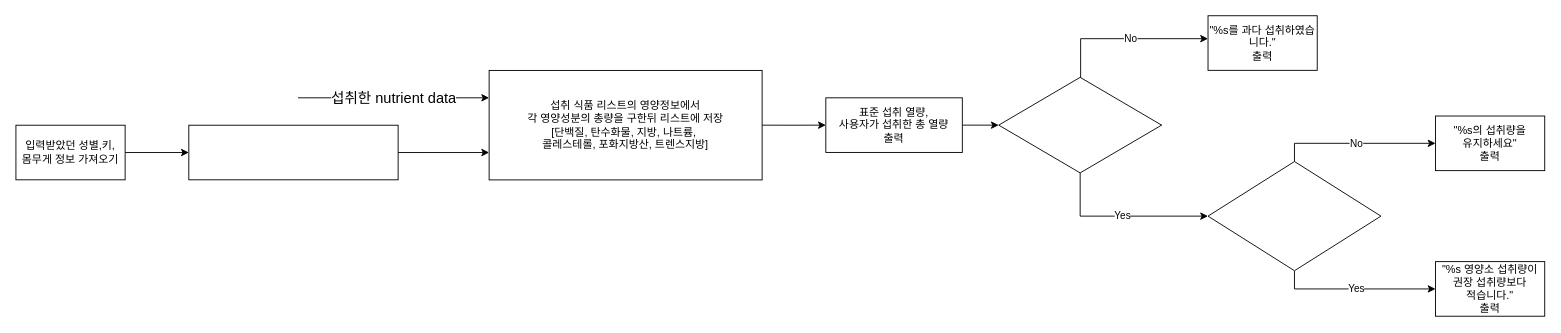
Image size: 1561x333. Some labels were removed from this diagram. Here are the shapes that lost their labels. From the top down, the box of each, then its label:
(998, 76, 1162, 173): 섭취한 영양소의 양이 권장 섭취량보다 적은가??
(188, 124, 398, 180): 표준체중, 표준 섭취 열량, BMI 구하기 표준 체중 = (키-100)*0.9 표준 섭취 열량 = 표준 체중*35 BMI = 체중/(신장)^2
(1207, 161, 1381, 271): 영양소가 단백질, 탄수화물인가?
